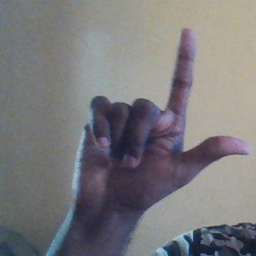L: (68, 26, 256, 214)
